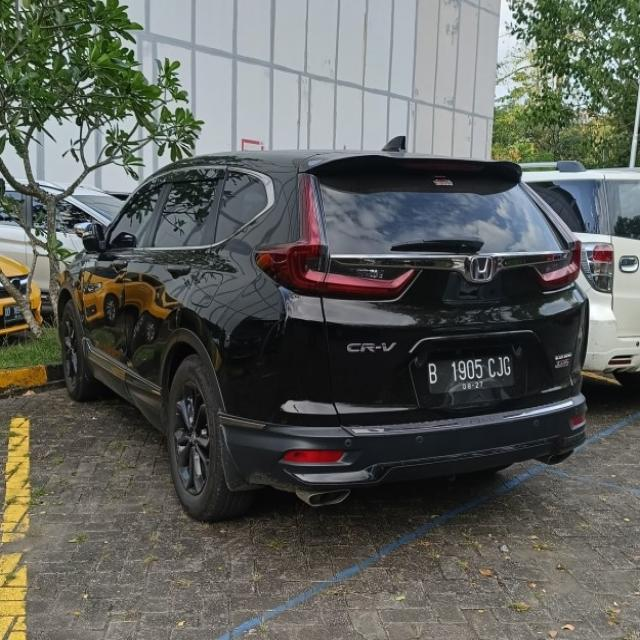plates: (421, 351, 521, 394)
